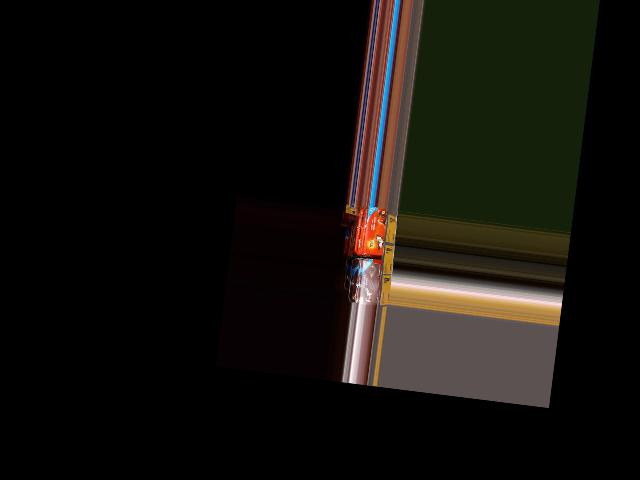chocolate: (355, 261, 386, 307)
